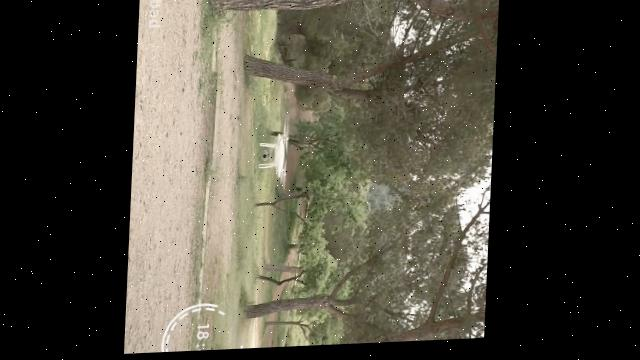drone: (256, 120, 294, 195)
